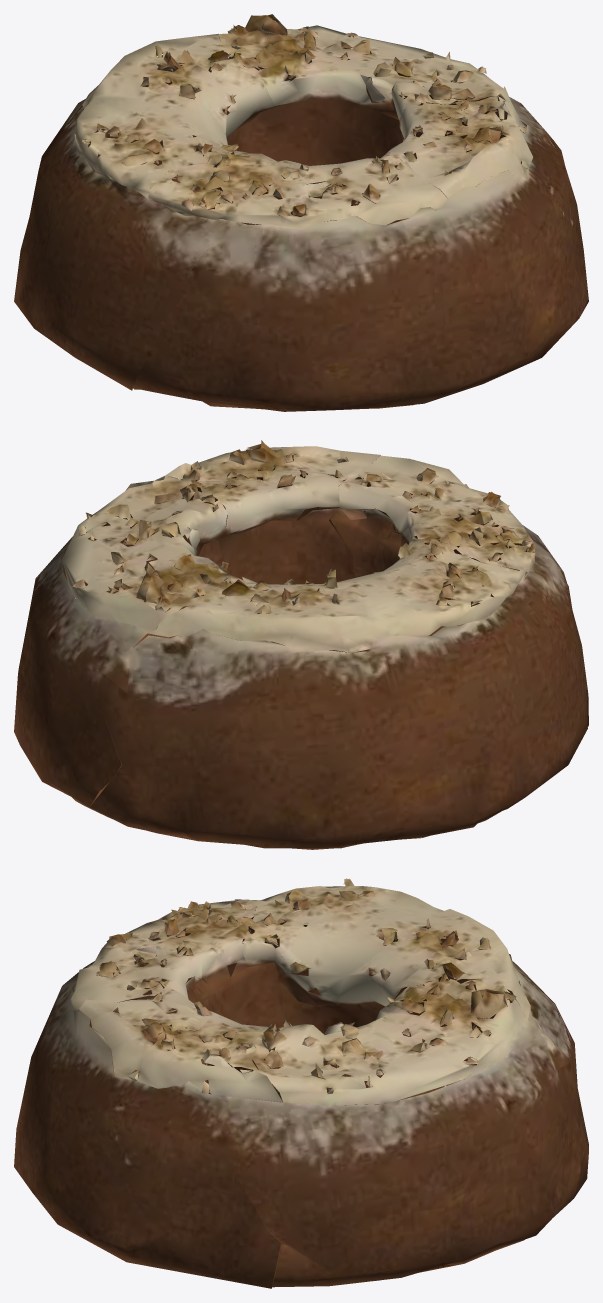
The model's file is carrot_cake.glb.
3 views of the same model, one above another, from view 1: azimuth 30°, elevation 25°; view 2: azimuth 150°, elevation 25°; view 3: azimuth 270°, elevation 25° (orthographic). The views are drawn at different scales.
Visible parts, largest first — view 1: carrot_cake; view 2: carrot_cake; view 3: carrot_cake.
Boxes of the visible parts, x1=… form: carrot_cake: x1=14, y1=14, x2=588, y2=411; carrot_cake: x1=14, y1=440, x2=588, y2=849; carrot_cake: x1=14, y1=878, x2=588, y2=1288.
Bounding box in the file's own units: 0.2248 × 0.0969 × 0.2256.
1 material, 1 textured.
